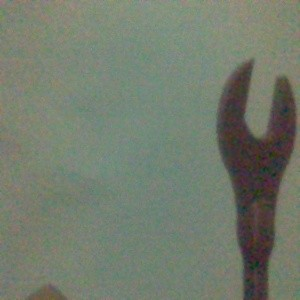spanner: (214, 57, 297, 300)
